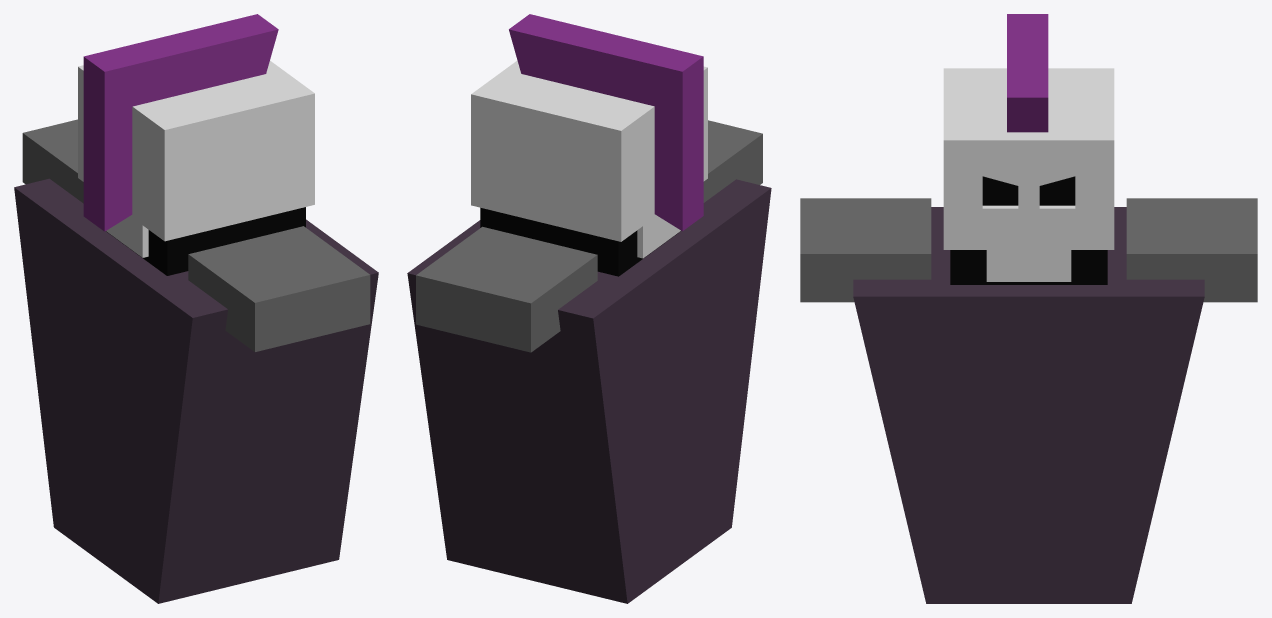
Rendered from Golem.fbx.
The picture shows the model from 3 angles, left to right: view 1: azimuth 30°, elevation 25°; view 2: azimuth 150°, elevation 25°; view 3: azimuth 270°, elevation 25°; orthographic projection.
Parts seen in each view (by area): view 1: Cube, Cube.001, Cube.003, Cube.005, Cube.002; view 2: Cube, Cube.001, Cube.003, Cube.005, Cube.002; view 3: Cube, Cube.001, Cube.003, Cube.005, Cube.002.
Part boxes in pixels (box(x1,y1,x2,y2)): Cube: box(14, 178, 378, 603); Cube.001: box(78, 60, 314, 257); Cube.003: box(22, 119, 370, 351); Cube.005: box(83, 14, 278, 231); Cube.002: box(106, 207, 305, 275); Cube: box(407, 179, 771, 603); Cube.001: box(471, 60, 707, 258); Cube.003: box(416, 120, 762, 352); Cube.005: box(509, 14, 703, 231); Cube.002: box(480, 207, 680, 276); Cube: box(853, 207, 1204, 603); Cube.001: box(943, 68, 1114, 281); Cube.003: box(800, 198, 1257, 302); Cube.005: box(1007, 14, 1048, 132); Cube.002: box(950, 176, 1107, 284).
Bounding box in the file's own units: 340 × 837 × 698.
